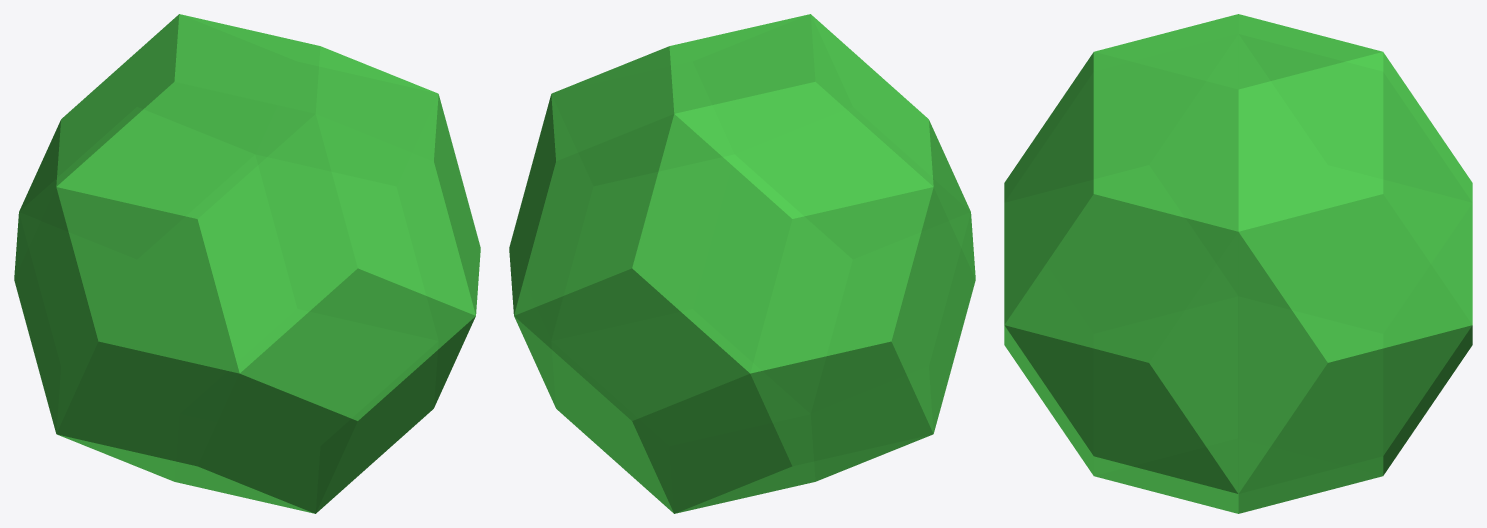
File: RhombicTriacontahedron.obj
The picture shows the model from 3 angles, left to right: view 1: azimuth 30°, elevation 25°; view 2: azimuth 150°, elevation 25°; view 3: azimuth 270°, elevation 25°; orthographic projection. The views are drawn at different scales.
Bounding box in the file's own units: 2.93 × 2.93 × 2.93.
